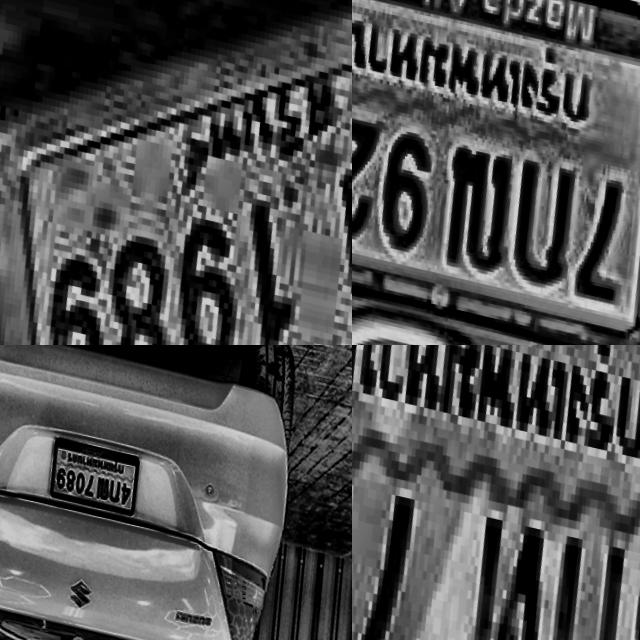license-plate: (0, 0, 352, 345), (352, 0, 640, 345), (352, 345, 640, 640), (33, 428, 141, 515)
